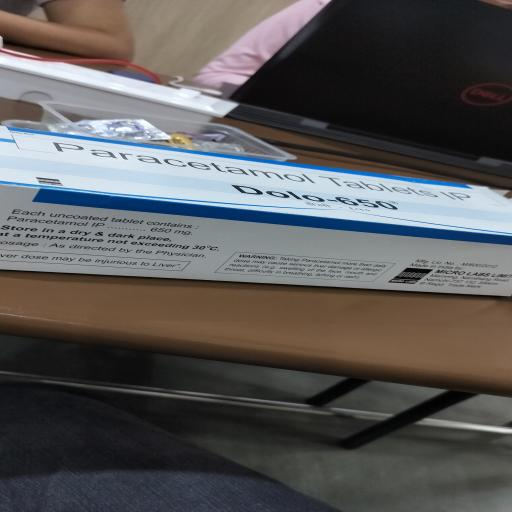medicine: (23, 144, 476, 277)
paracetamol: (38, 148, 328, 178)
